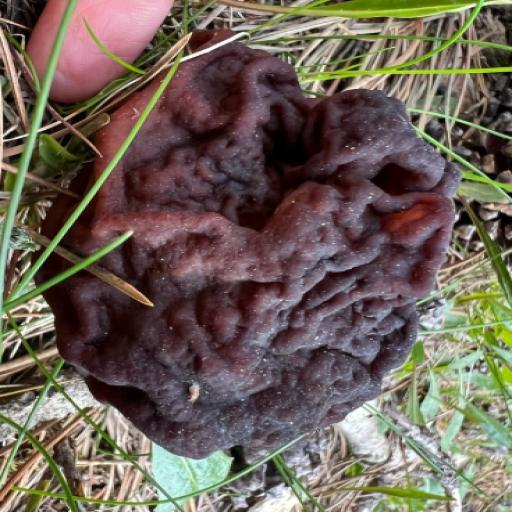mushroom: (15, 25, 491, 512)
